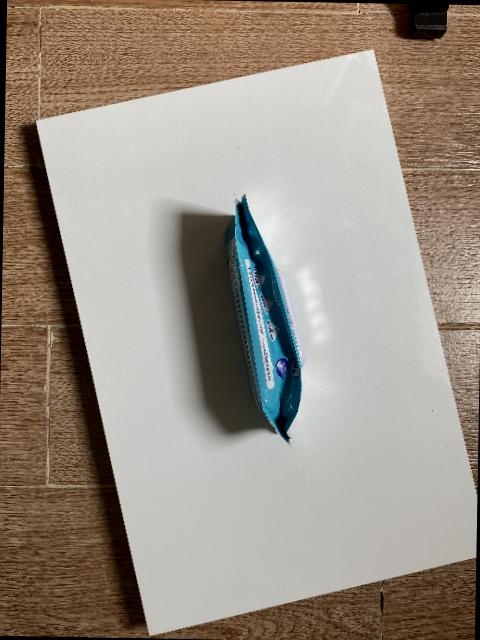Let-green_alcohol_wipes: (224, 191, 304, 448)
